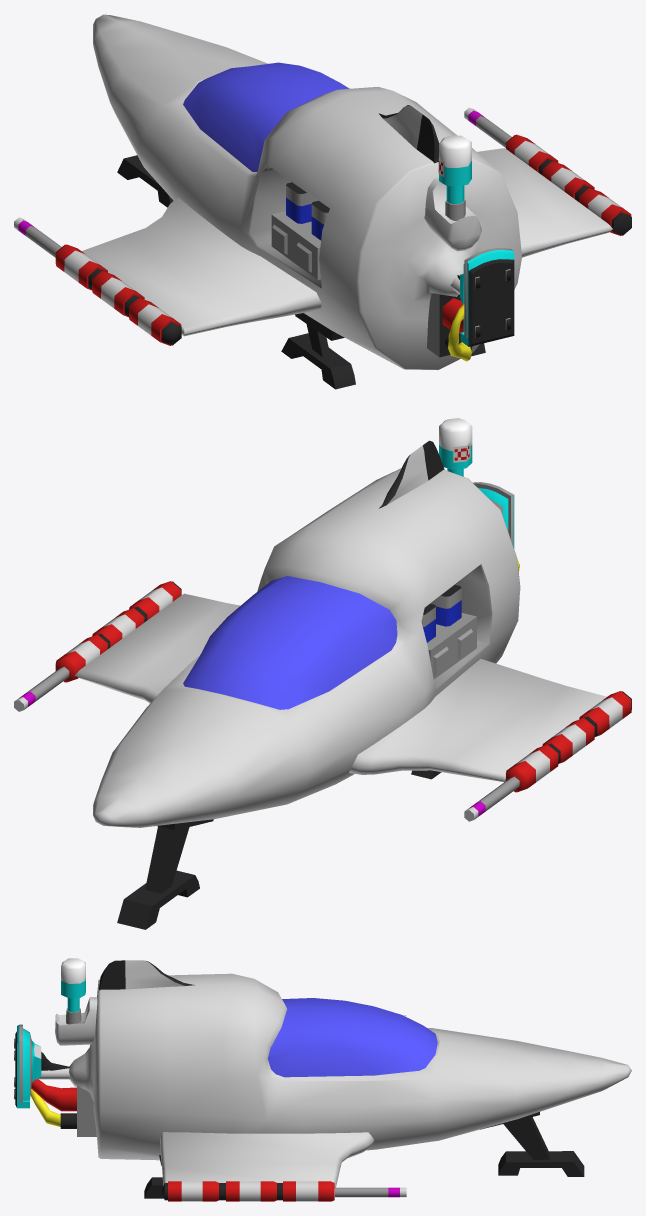
File: Ship1.fbx
3 views of the same model, one above another, from view 1: azimuth 30°, elevation 25°; view 2: azimuth 150°, elevation 25°; view 3: azimuth 270°, elevation 25° (orthographic). The views are drawn at different scales.
Visible parts, largest first — view 1: ShipOpen; view 2: ShipOpen; view 3: ShipOpen.
Part boxes in pixels (bbox=[...]): ShipOpen: bbox=[14, 14, 631, 389]; ShipOpen: bbox=[14, 418, 631, 929]; ShipOpen: bbox=[14, 958, 631, 1201].
Size of the model in its own units: 7948 by 4316 by 11455.
